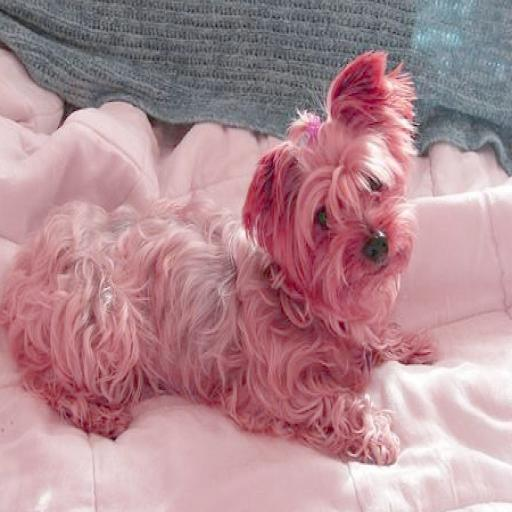dog_face: (244, 66, 407, 309)
